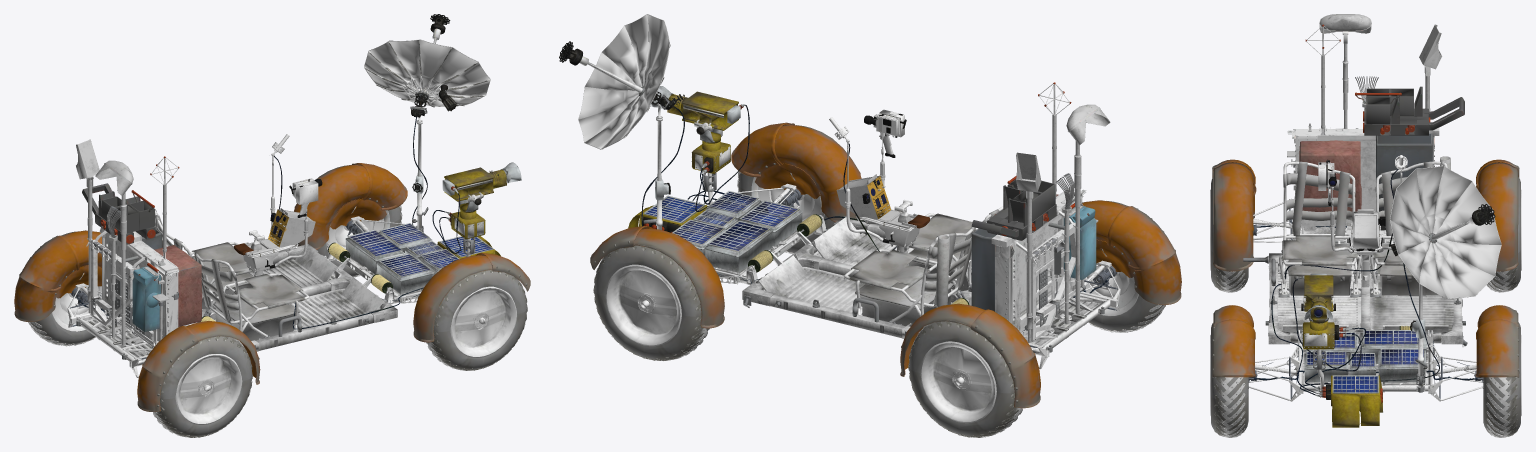
The model's file is thumb.glb.
3 views of the same model, side by side, from view 1: azimuth 30°, elevation 25°; view 2: azimuth 150°, elevation 25°; view 3: azimuth 270°, elevation 25° (orthographic). The views are drawn at different scales.
Parts seen in each view (by area): view 1: ApolloRoverRig__1.001_2; view 2: ApolloRoverRig__1.001_2; view 3: ApolloRoverRig__1.001_2.
Boxes of the visible parts, x1,y1,x2,y2 form: ApolloRoverRig__1.001_2: (14,14,530,437); ApolloRoverRig__1.001_2: (559,14,1181,437); ApolloRoverRig__1.001_2: (1210,14,1521,437).
Bounding box in the file's own units: 3.1 × 1.77 × 1.78.
Materials: 9 (7 with a texture image).
